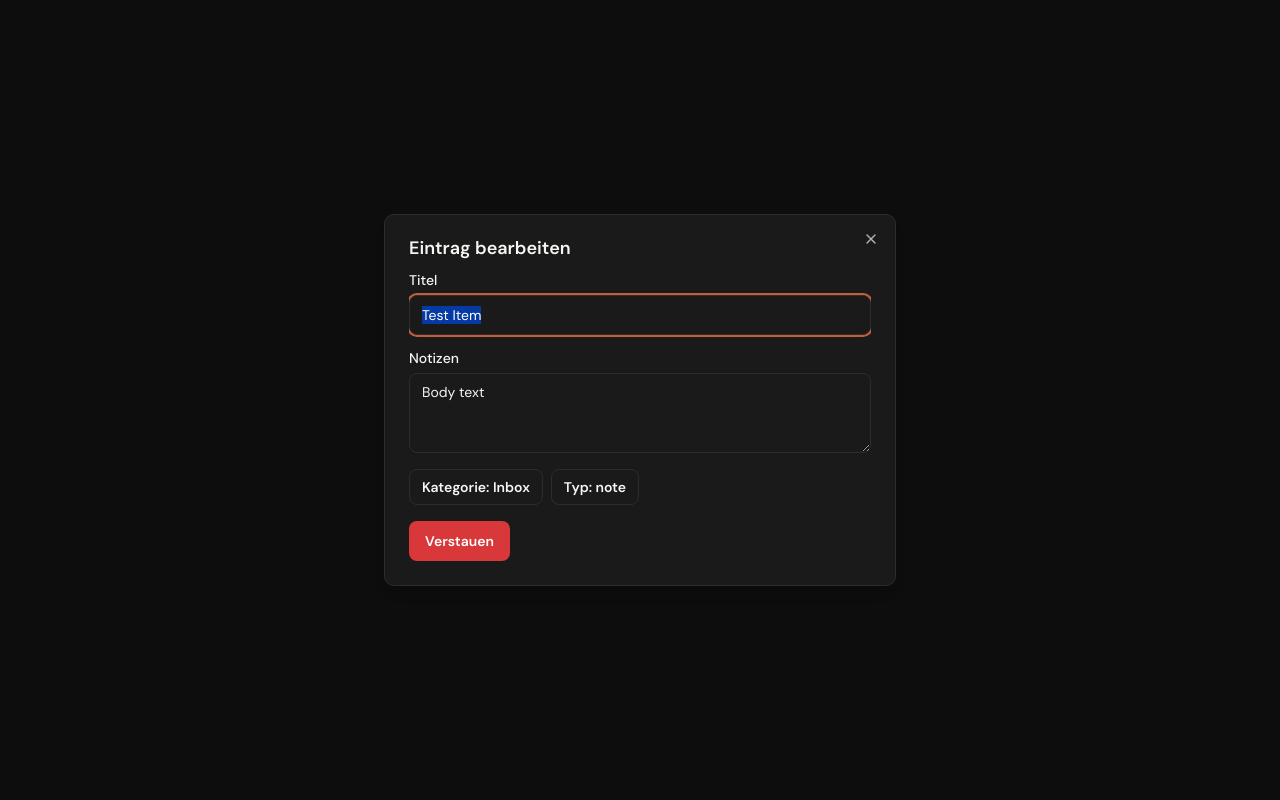
it: ItemModal › shows type-change warning dialog
Click the button "Typ: note" at (595, 487), box [551, 469, 639, 505]
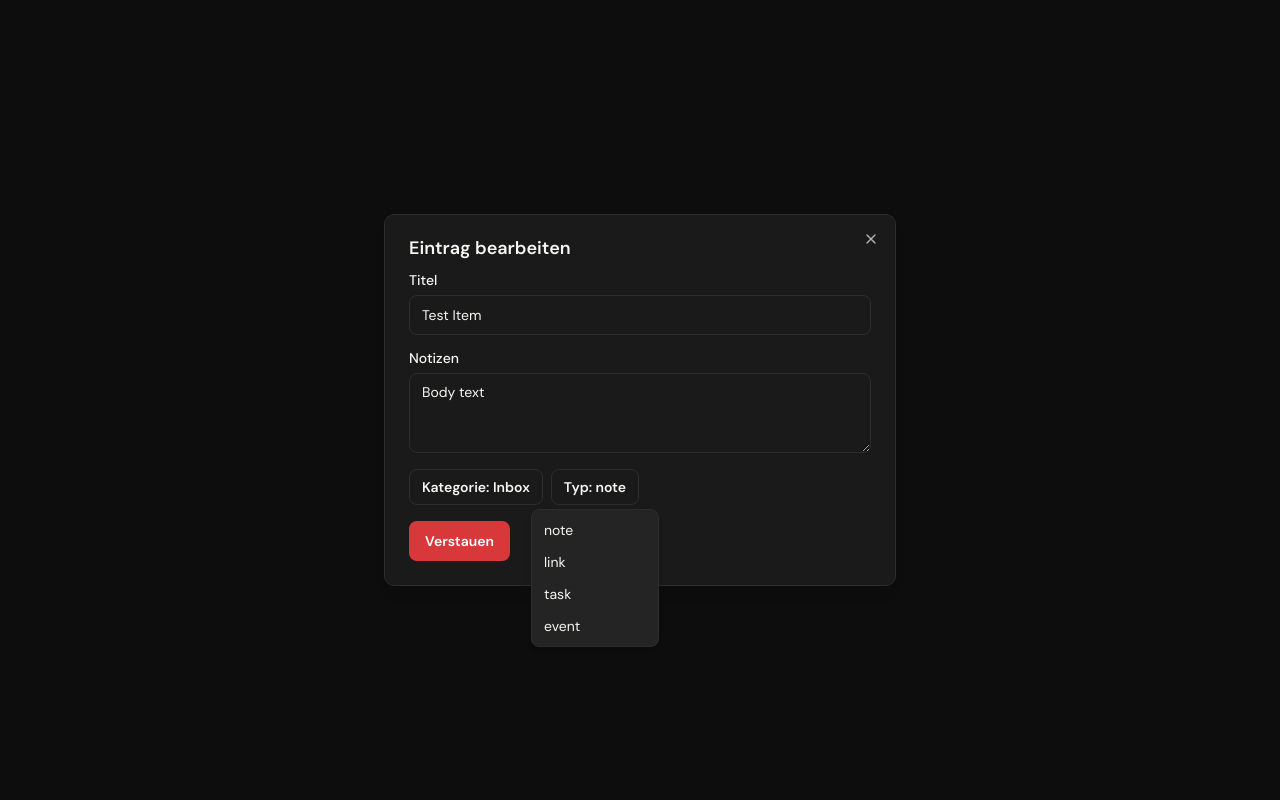
Click the menu item "task" at (558, 594), box [544, 585, 571, 603]
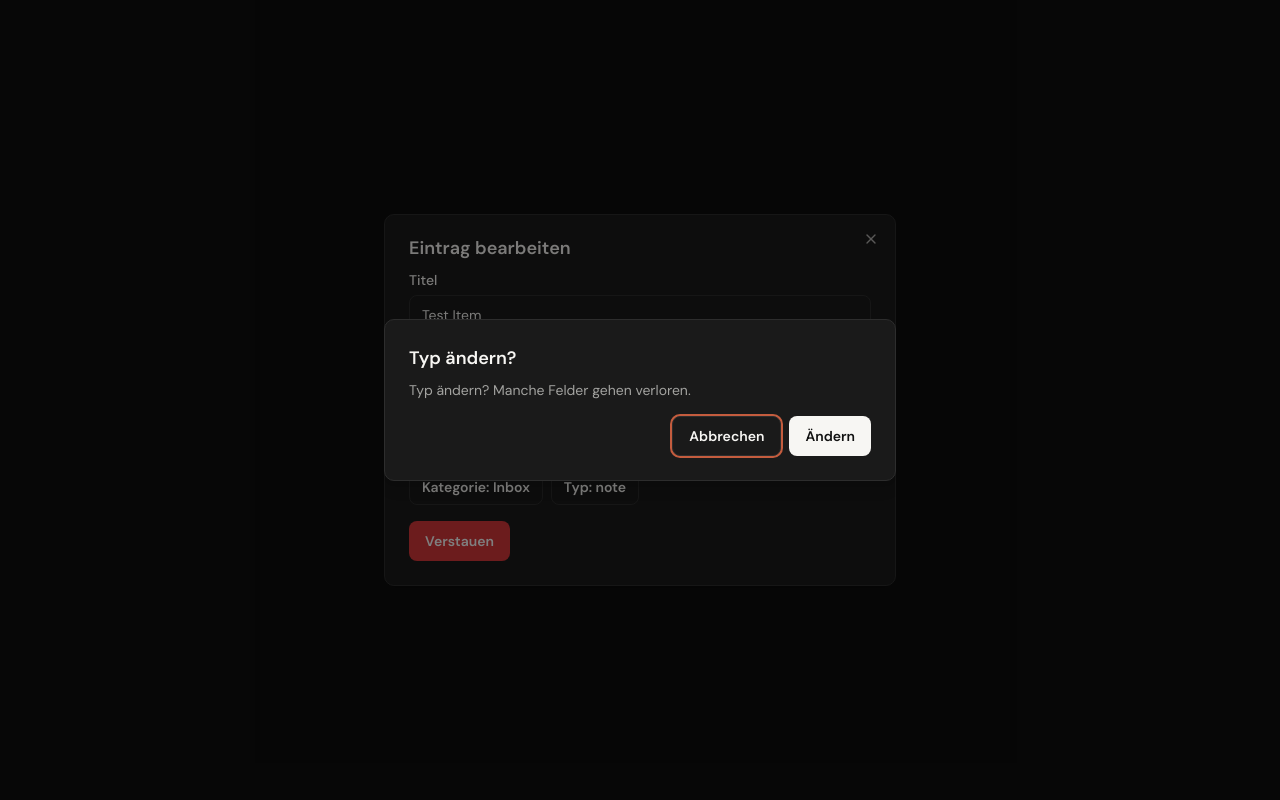
expect the text "Typ ändern? Manche Felder gehen verloren." is shown: met, box [409, 381, 691, 399]
